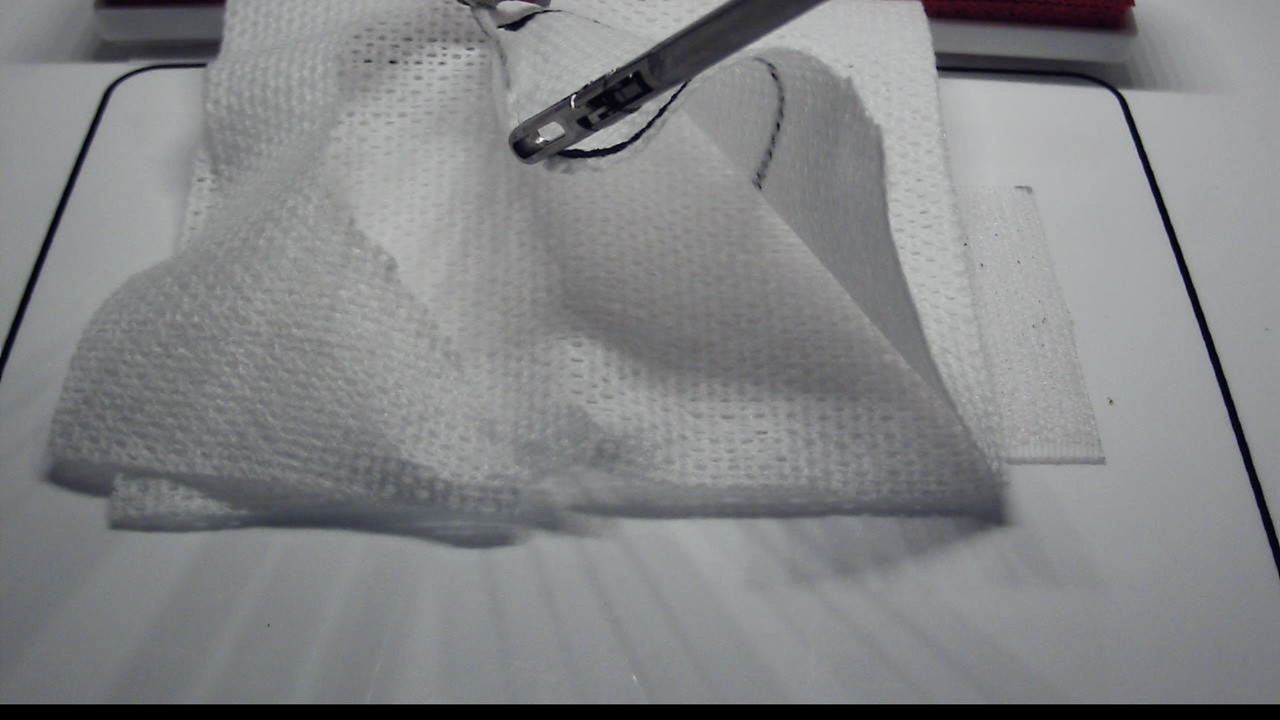Circle: (496, 1, 785, 205)
Grasper: (508, 92, 602, 166)
Scissor: (461, 1, 545, 11)
